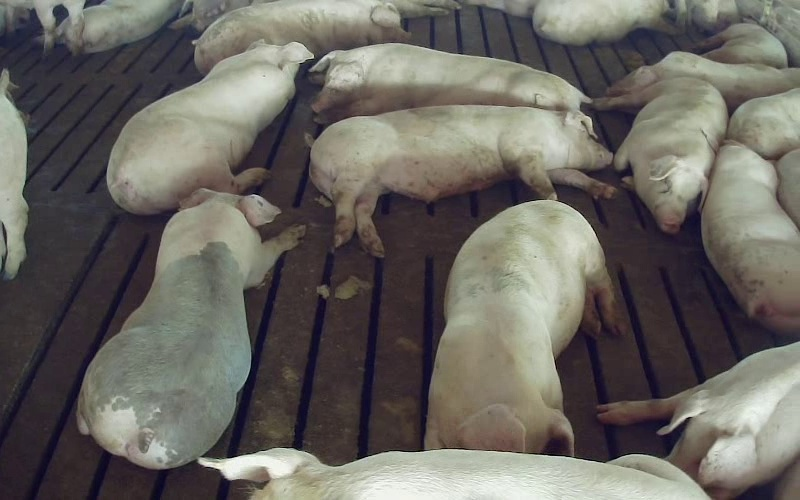pig: (77, 189, 304, 468), (310, 105, 614, 256), (107, 42, 312, 214), (597, 342, 799, 499), (198, 448, 708, 499), (310, 43, 590, 123), (594, 77, 727, 233), (701, 141, 799, 333), (194, 0, 409, 73), (606, 51, 799, 110), (533, 0, 676, 45), (82, 0, 182, 52), (727, 88, 799, 159), (701, 23, 787, 68)
